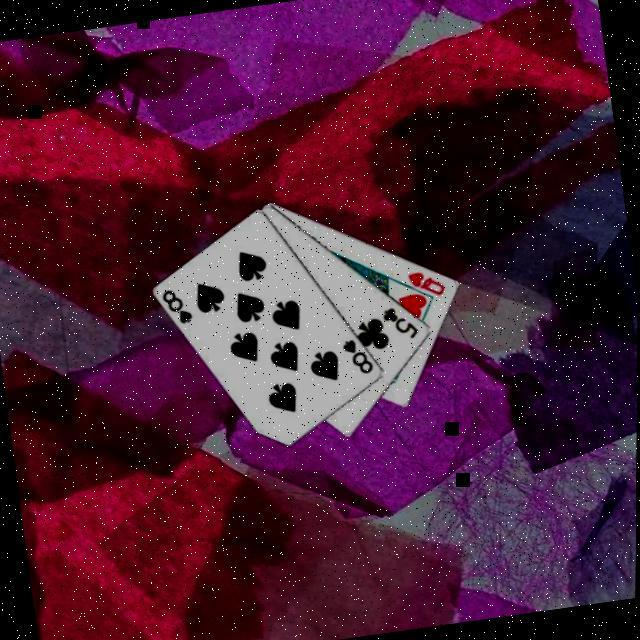5C: (377, 302, 421, 347)
8S: (156, 286, 196, 332), (337, 336, 376, 381)
QH: (403, 267, 447, 304)
